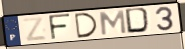3: (154, 6, 175, 33)
D: (124, 7, 153, 35), (74, 12, 100, 39)
F: (47, 13, 72, 41)
M: (99, 9, 128, 36)
Z: (21, 16, 49, 43)
